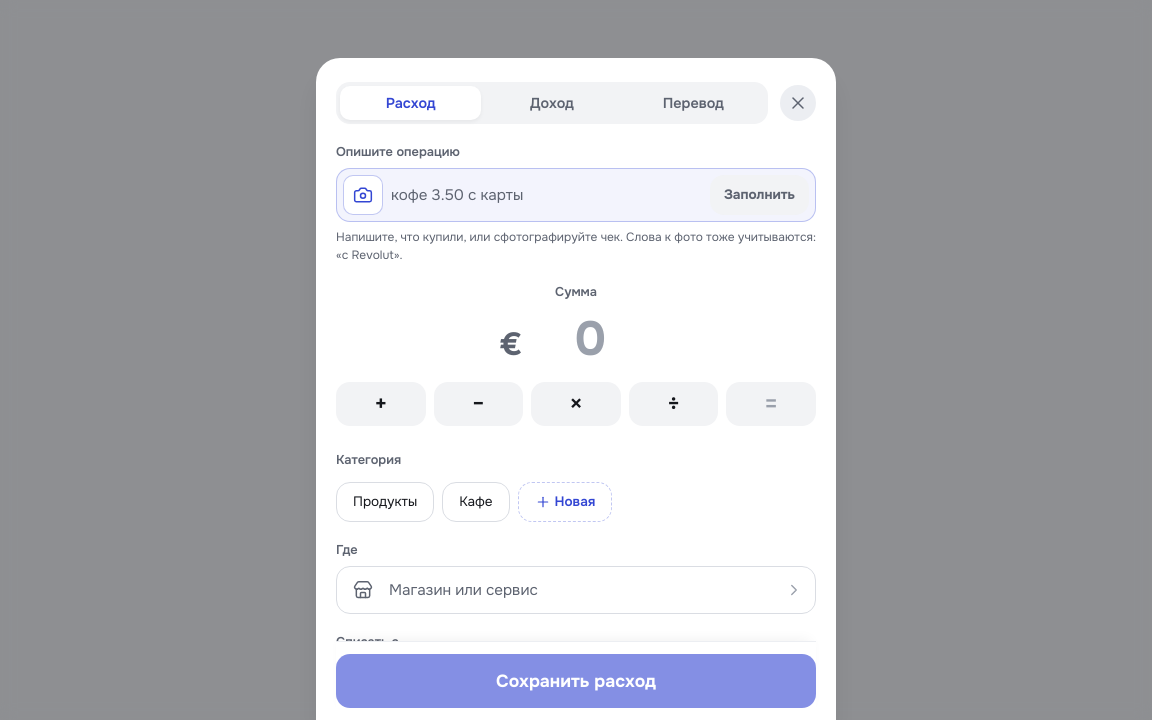
it: QuickEntry in the transaction form › shows the server message and leaves the form editable on an error
The image size is (1152, 720).
Later steps or results of the test are not shown.
Type "что-то купил" into the field labelled "Опишите операцию".
click(546, 195); type("что-то купил")  # box [391,185,702,205]
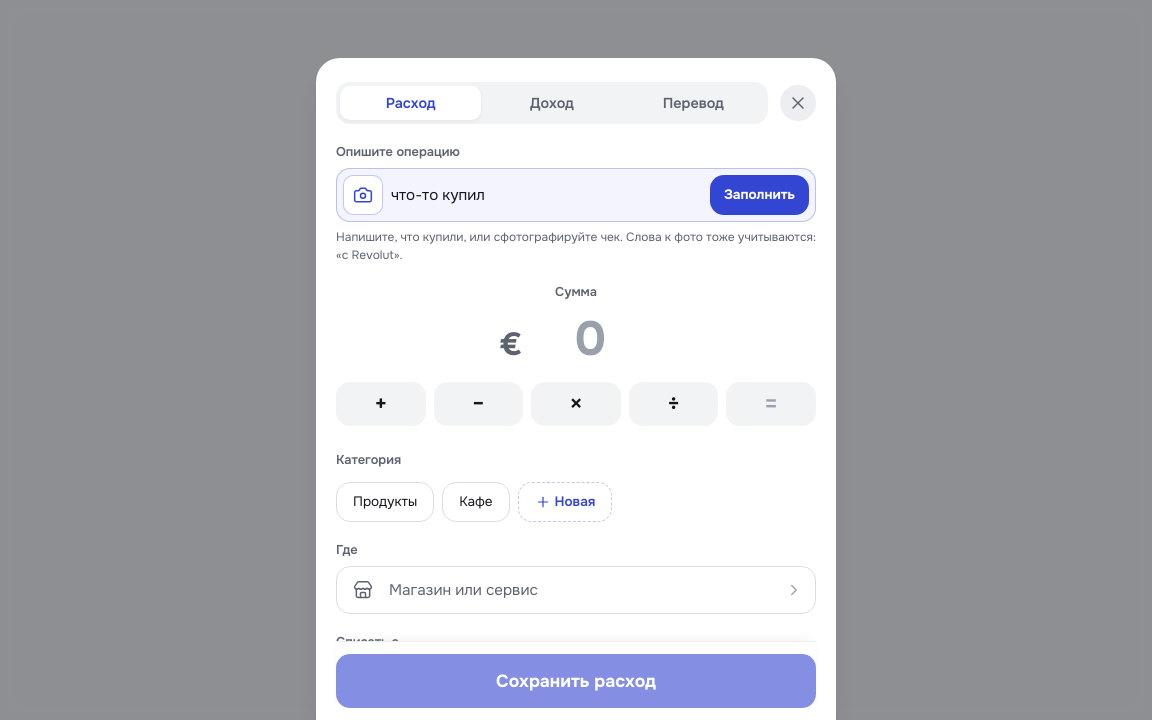
Click the button "Заполнить".
click(759, 195)  # box [710,175,809,215]
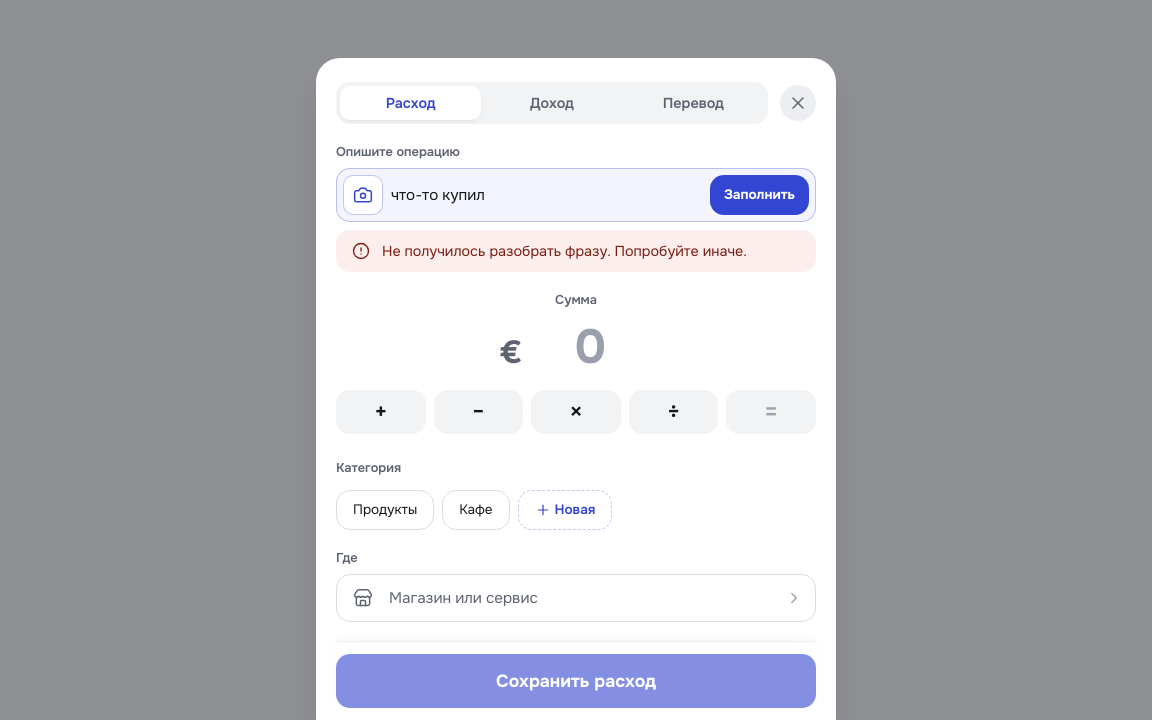
Check: the message reads "Не получилось разобрать фразу. Попробуйте иначе.", box [382,242,747,260]
